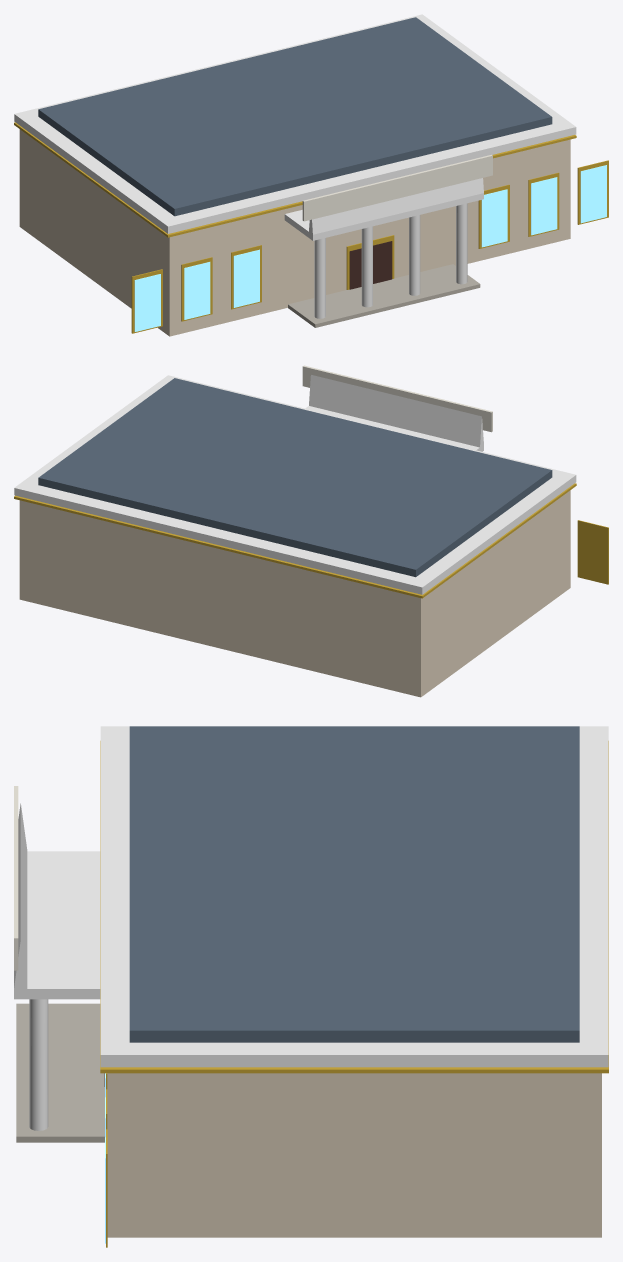
Rendered from town_hall.glb.
3 renders of one model, top to bottom at view 1: azimuth 30°, elevation 25°; view 2: azimuth 150°, elevation 25°; view 3: azimuth 270°, elevation 25°, orthographic. The views are drawn at different scales.
Parts seen in each view (by area): view 1: TownHall_body; view 2: TownHall_body; view 3: TownHall_body.
Part boxes in pixels (x1,y1,x2,y2): TownHall_body: [14, 14, 608, 336]; TownHall_body: [14, 365, 608, 697]; TownHall_body: [14, 726, 608, 1247].
Bounding box in the file's own units: 40.4 × 10.5 × 26.46.
